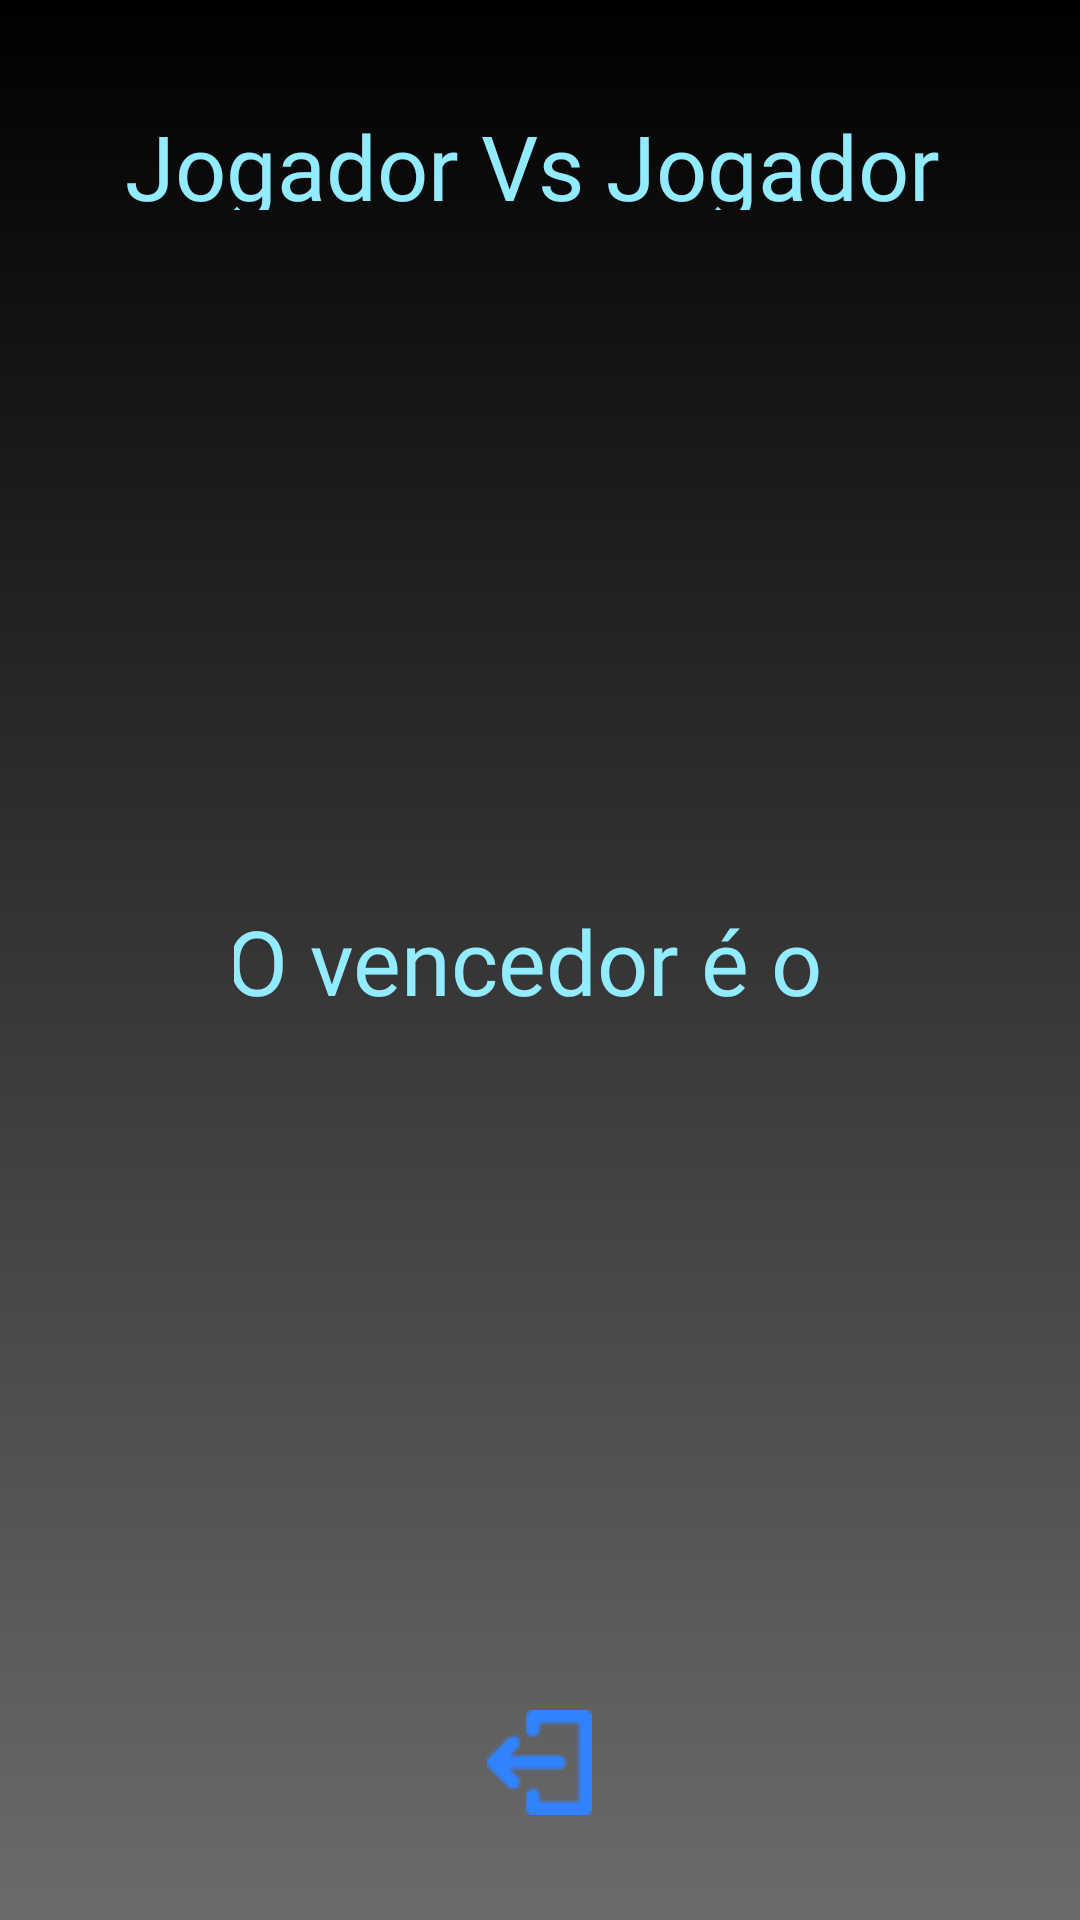

Where to tap for icons on this 1080px x 1920px app screen, as (x,y):
sairicone: (539,1762)
